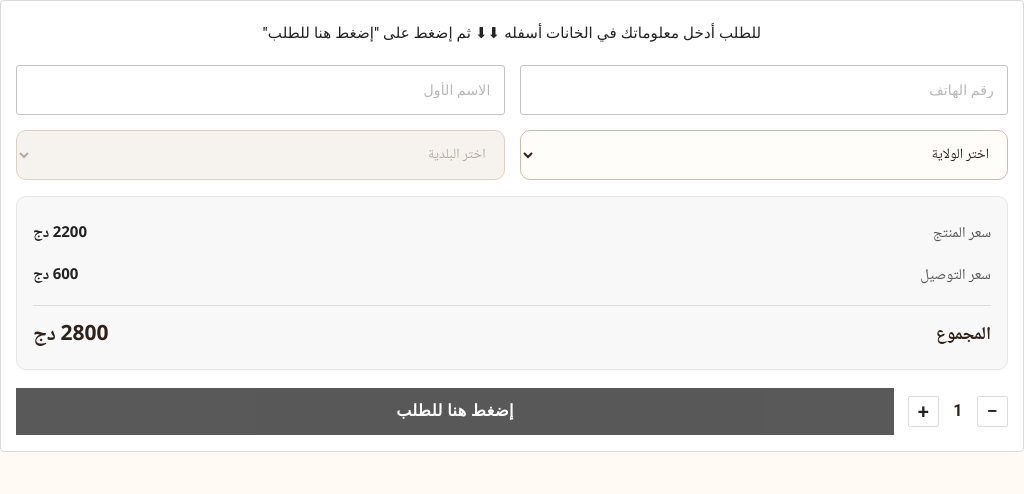
Form order submission › does not redirect for success:false
Type "أحمد" into the field labelled "الاسم الأول". click: x=260, y=89
box: left=16, top=63, right=504, bottom=116
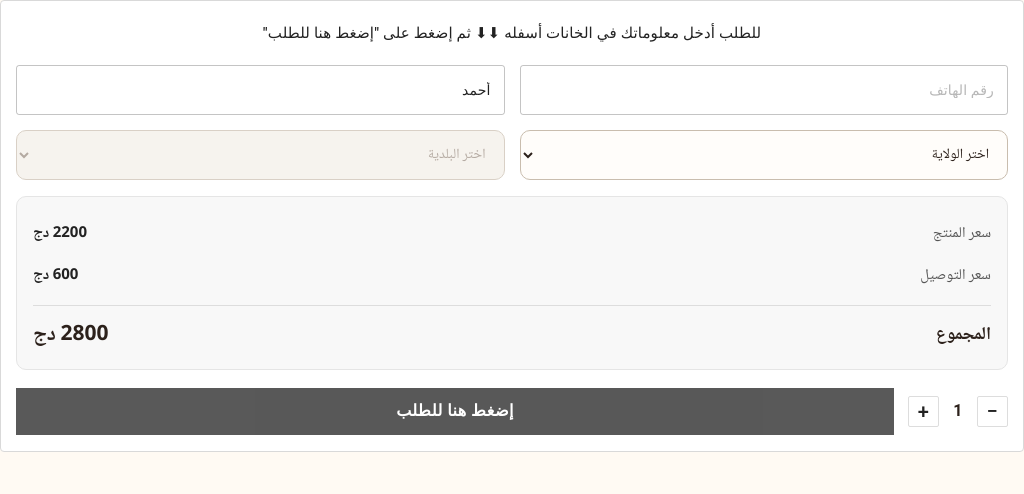
Type "0555123456" into the field labelled "رقم الهاتف". click: x=764, y=89
box: left=520, top=63, right=1008, bottom=116
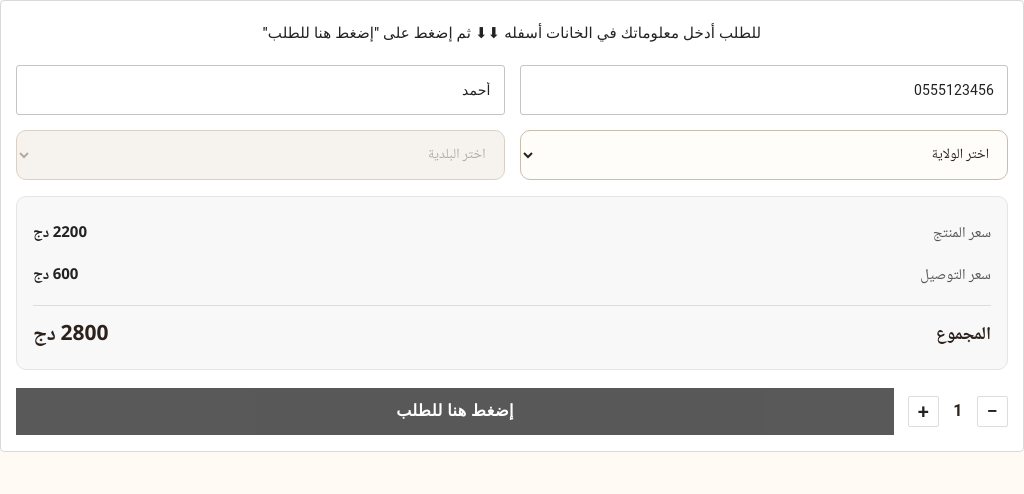
Select "1 - Adrar" in the dropdown named "الولاية". click: x=764, y=154
box: left=520, top=130, right=1008, bottom=180
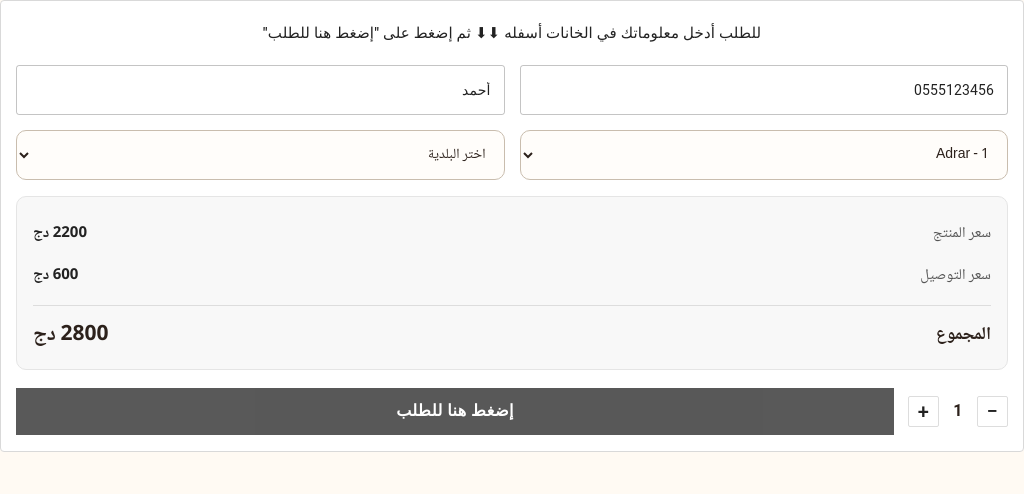
Select "Adrar" in the dropdown named "البلدية". click: x=260, y=154
box: left=16, top=130, right=504, bottom=180
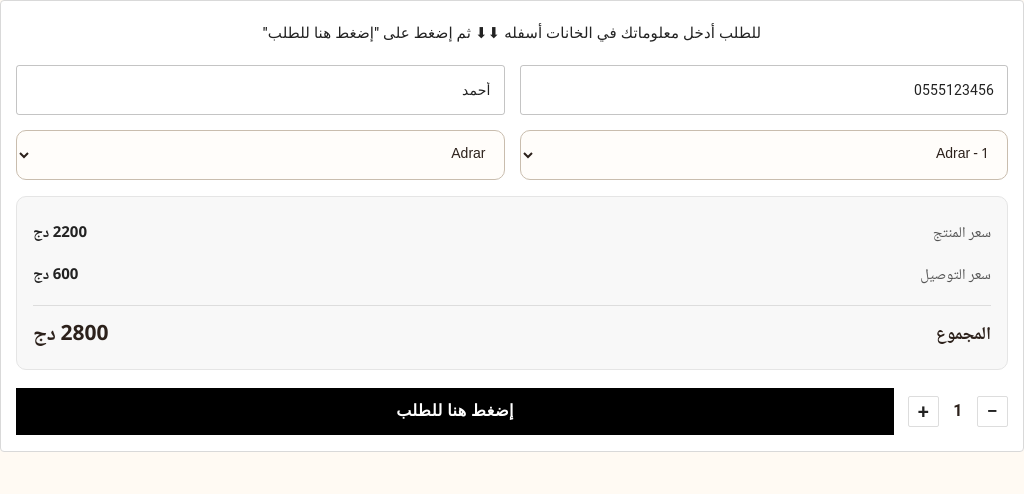
Submit the form
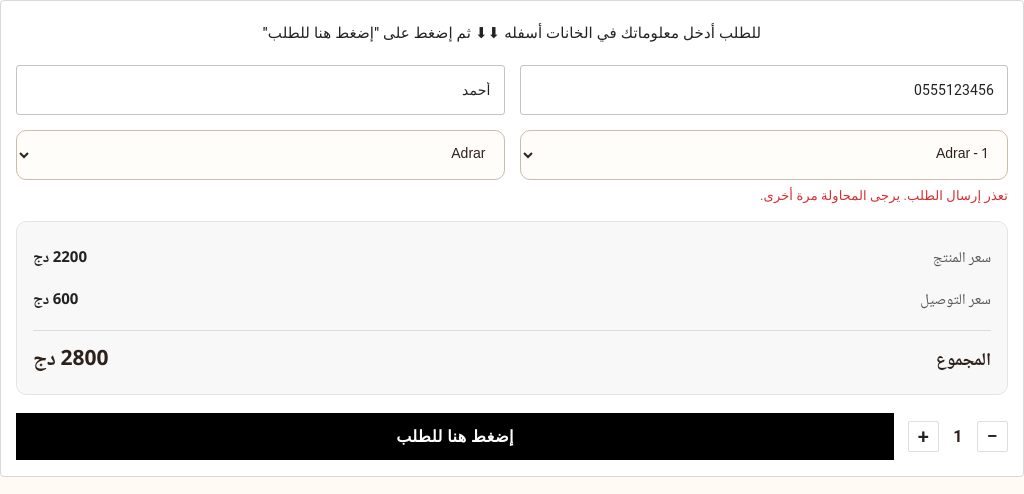
Now the message shows "تعذر إرسال الطلب", box left=760, top=188, right=1008, bottom=202
